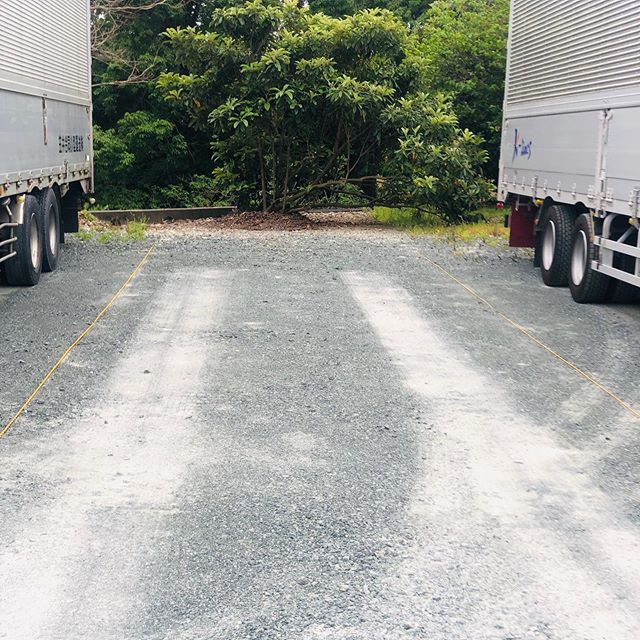truck: (484, 1, 640, 308), (1, 1, 113, 266)
vegetation: (95, 1, 498, 206)
